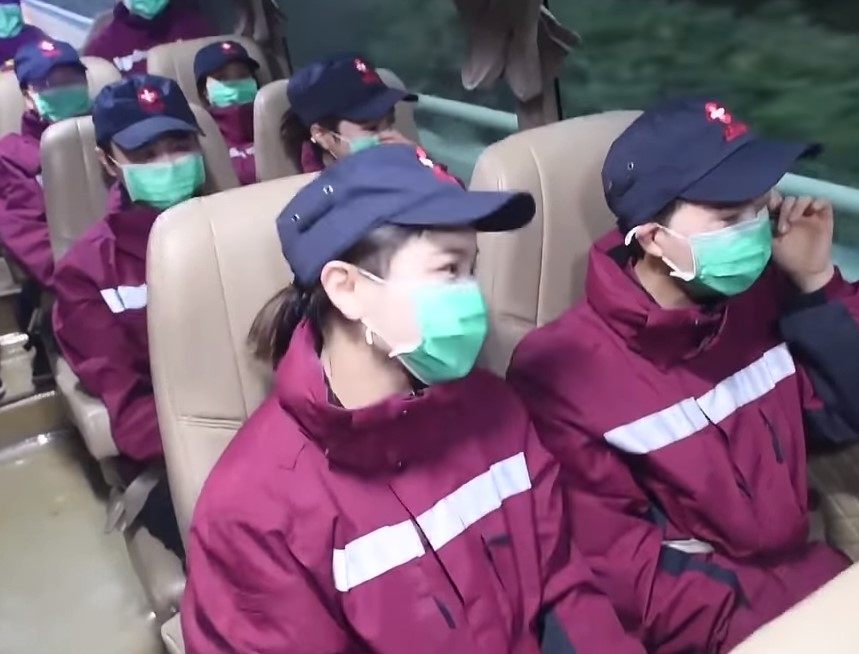face_with_mask: (314, 188, 495, 392), (621, 137, 786, 308), (91, 73, 210, 198), (293, 57, 418, 156), (15, 40, 98, 118), (191, 40, 262, 110)
